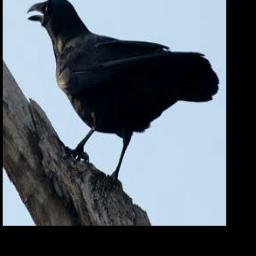Crow: (24, 0, 220, 188)
